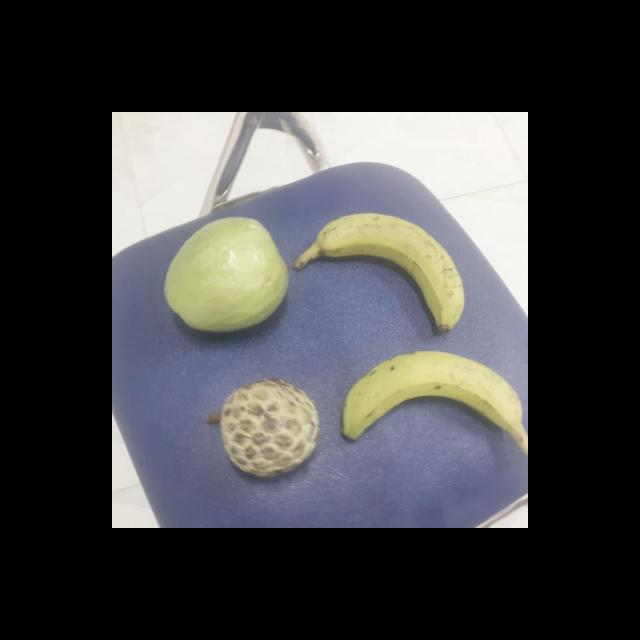Sakya fruit: (208, 378, 318, 478)
banana: (286, 213, 463, 334), (332, 350, 522, 450)
guava: (162, 214, 290, 334)
